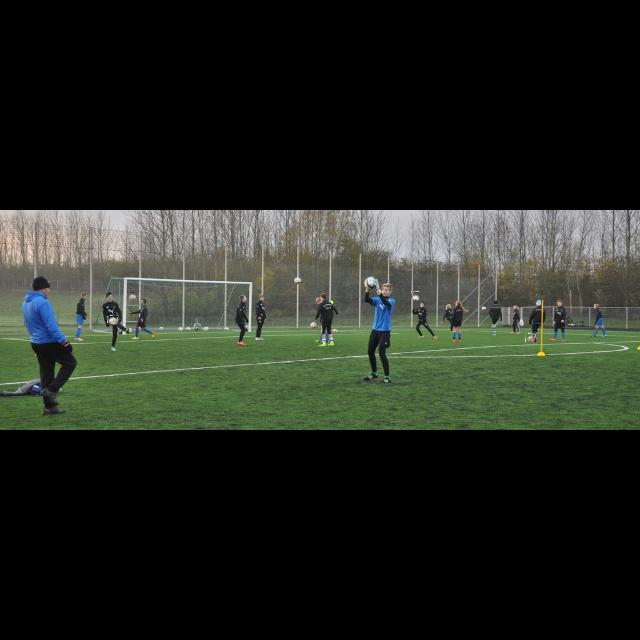Football: (364, 276, 374, 288), (308, 318, 318, 328), (108, 316, 118, 324), (293, 275, 303, 283), (526, 334, 536, 342), (128, 292, 134, 300), (411, 292, 419, 298)
